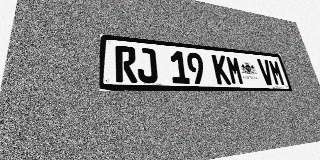1: (169, 50, 190, 84)
9: (186, 52, 206, 84)
J: (136, 47, 158, 83)
K: (211, 54, 231, 85)
M: (225, 56, 245, 85), (268, 60, 286, 86)
R: (115, 45, 137, 83)
V: (257, 59, 275, 85)
